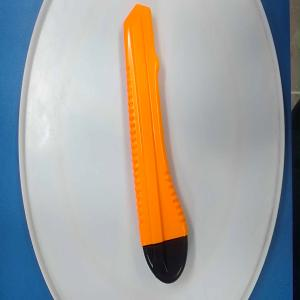estilete: (123, 4, 188, 284)
